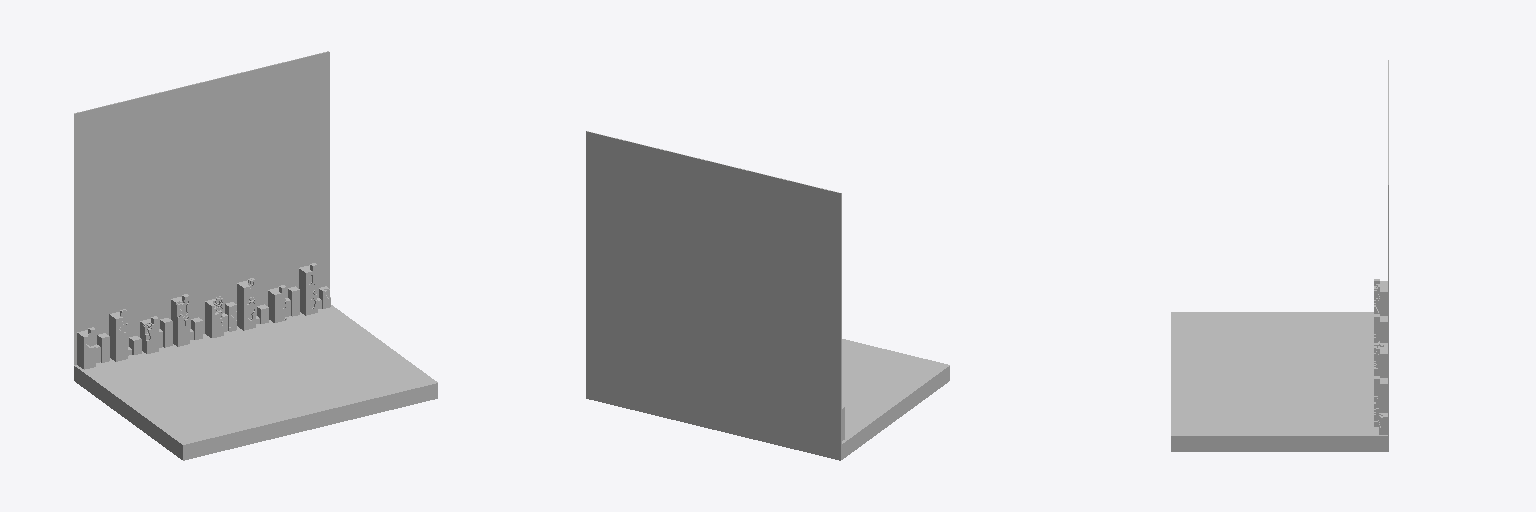
Rendered from HellWorld.obj.
3 renders of one model, left to right at view 1: azimuth 30°, elevation 25°; view 2: azimuth 150°, elevation 25°; view 3: azimuth 270°, elevation 25°, orthographic.
Visible parts, largest first — view 1: object 1; view 2: object 1; view 3: object 1.
Boxes of the visible parts, x1,y1,x2,y2 form: object 1: [74, 51, 437, 460]; object 1: [586, 131, 949, 460]; object 1: [1171, 60, 1388, 451].
Size of the model in its own units: 25.6 by 25.6 by 19.